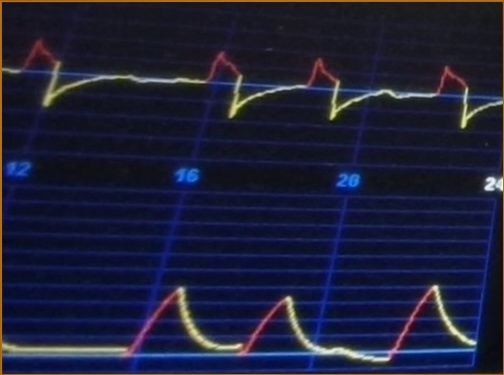Ineffective_effort Flow: (2, 26, 502, 133)
Ineffective_effort Volume: (3, 269, 475, 367)
